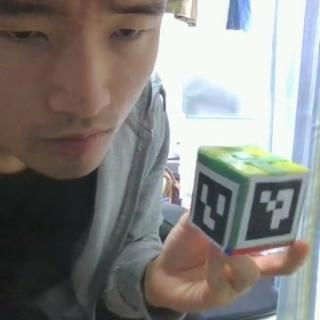armor: (237, 175, 304, 249), (188, 160, 237, 251)
robot: (186, 145, 308, 252)
